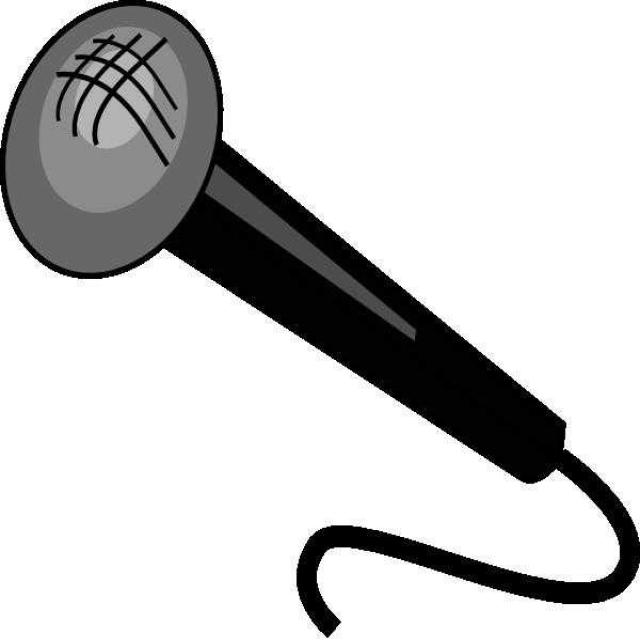microphone: (0, 9, 527, 472)
